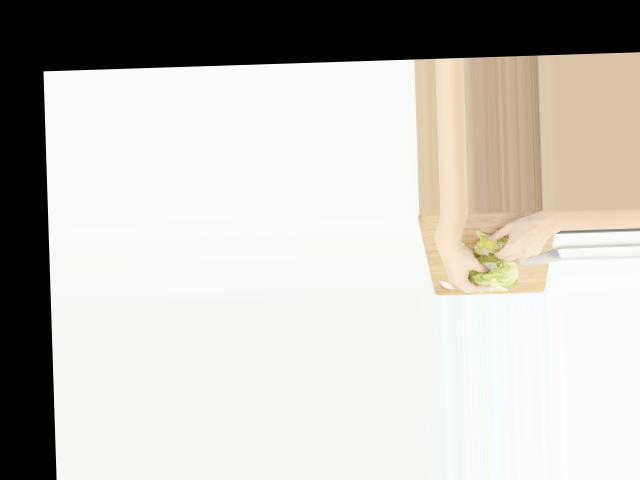lettuce: (471, 256, 519, 290)
